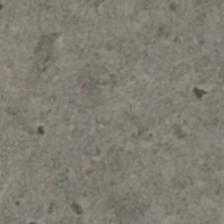Non_Crack: (17, 15, 223, 208)
